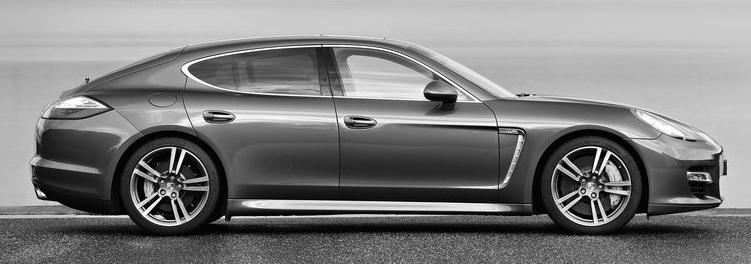car: (30, 36, 734, 240)
